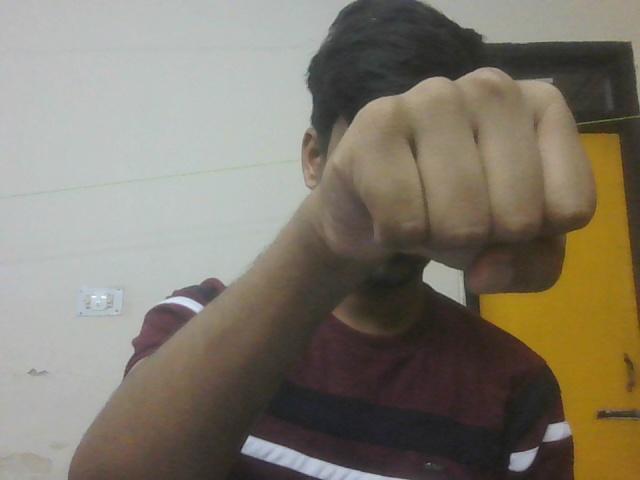yes: (288, 65, 604, 334)
